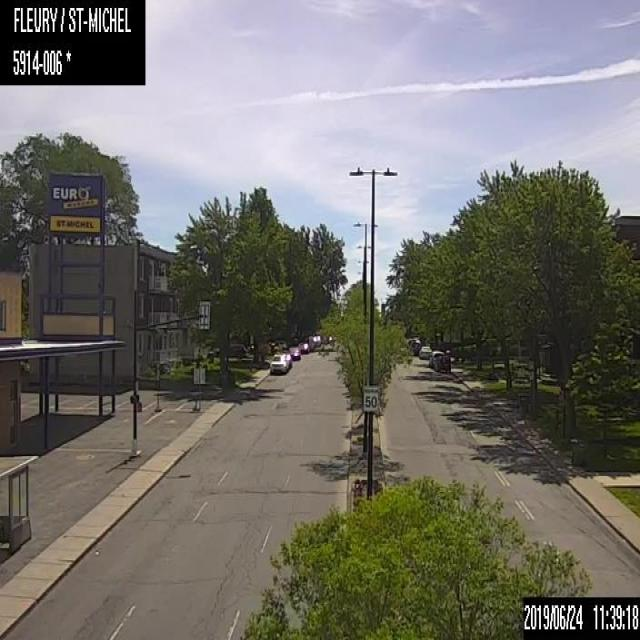vehicle: (268, 351, 291, 375), (433, 354, 451, 374), (428, 349, 442, 367), (287, 344, 301, 360), (419, 344, 430, 360), (299, 341, 309, 355)
